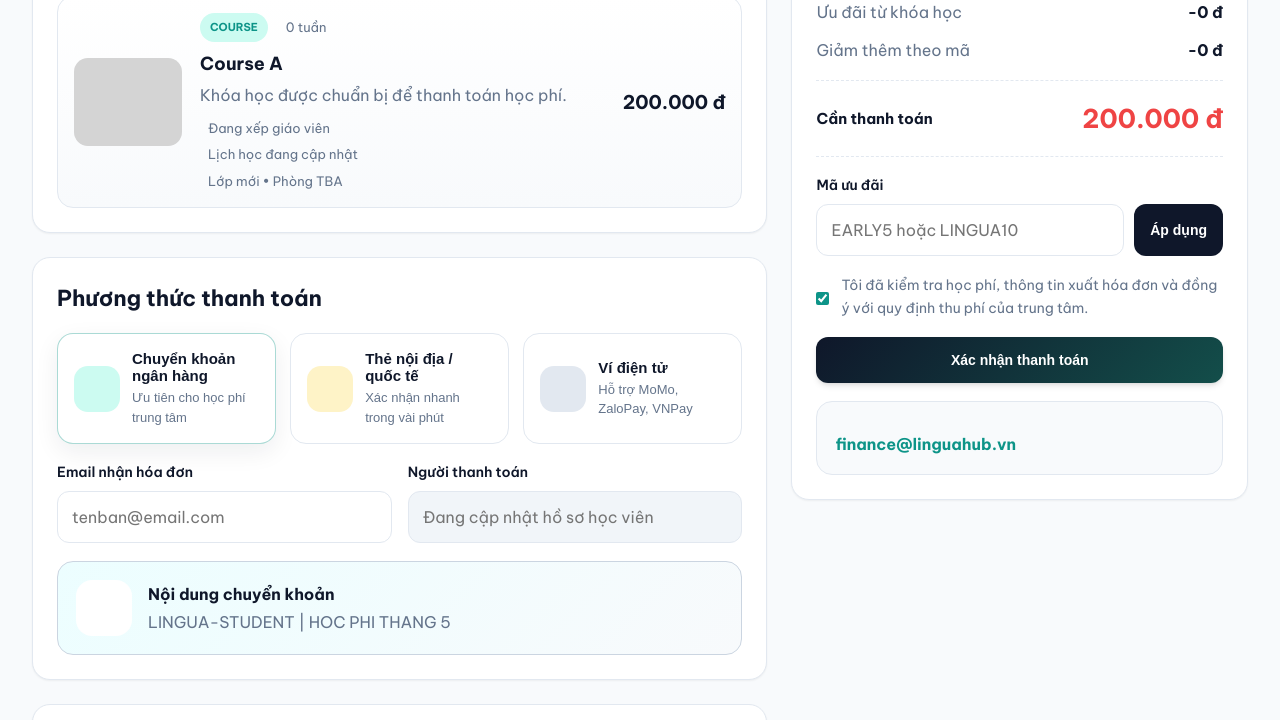
PaymentPage › bao loi khi chua co email
(page scrolled)
Click the button "Xác nhận thanh toán".
click(1020, 360)  # box [816, 337, 1223, 383]
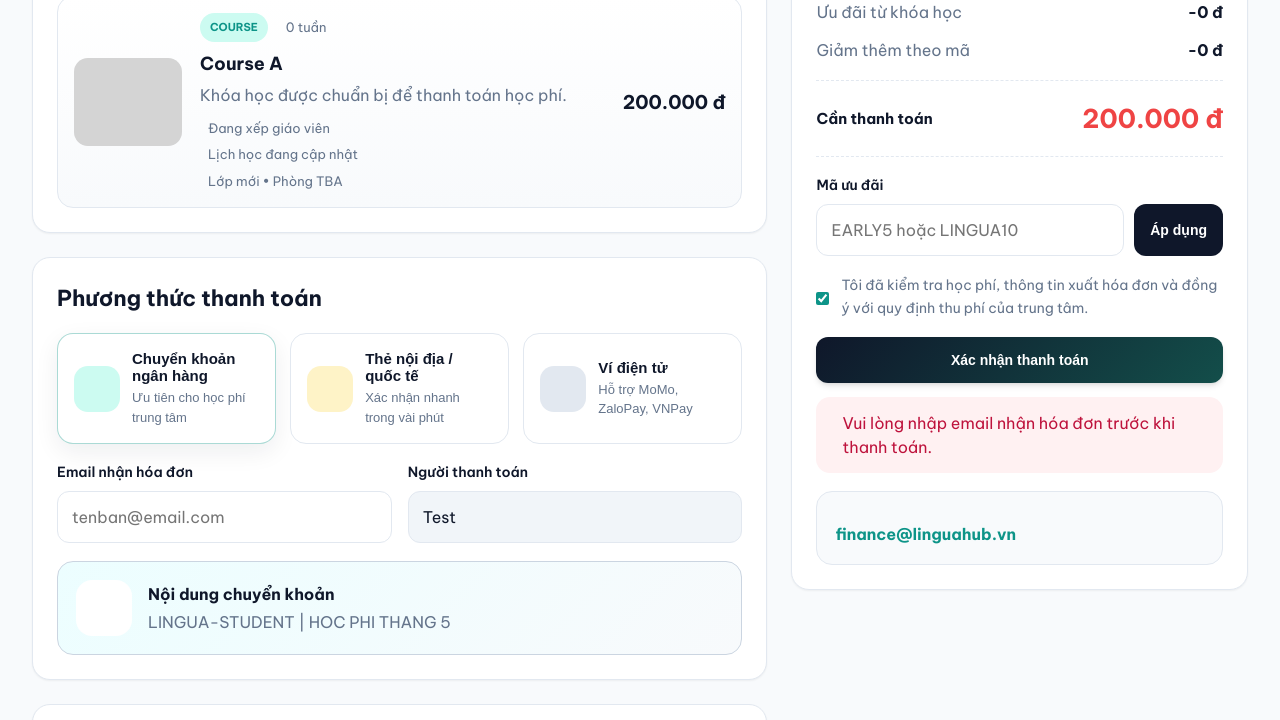
Expected: the text "Vui lòng nhập email nhận hóa đơn trước khi thanh toán." is shown, [842, 411, 1207, 459]
